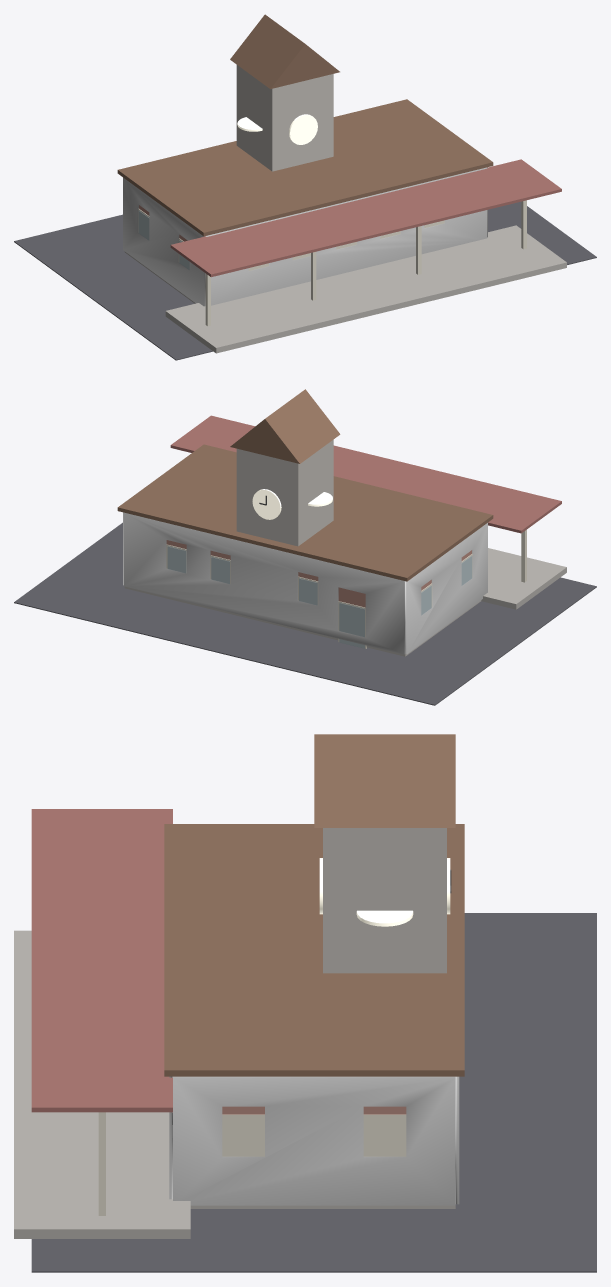
The model's file is railway_station.glb.
3 renders of one model, top to bottom at view 1: azimuth 30°, elevation 25°; view 2: azimuth 150°, elevation 25°; view 3: azimuth 270°, elevation 25°, orthographic. The views are drawn at different scales.
Parts seen in each view (by area): view 1: roof_main, platform, canopy_roof, plaza, back_wall, tower, left_wall, tower_roof, clock_s; view 2: plaza, roof_main, front_wall, canopy_roof, tower, left_wall, tower_roof, platform, frame (×4), glass (×4), body, foundation (+1 smaller); view 3: plaza, roof_main, canopy_roof, right_wall, platform, tower, tower_roof, frame (×2), foundation, canopy_post_r, clock_e, body.
Part boxes in pixels (<box>): roof_main: <box>117,99,493,236</box>; platform: <box>165,225,566,353</box>; canopy_roof: <box>170,159,561,277</box>; plaza: <box>14,201,596,360</box>; back_wall: <box>206,167,487,305</box>; tower: <box>236,65,333,171</box>; left_wall: <box>123,177,205,306</box>; tower_roof: <box>230,14,339,88</box>; clock_s: <box>289,114,317,144</box>; plaza: <box>14,522,596,705</box>; roof_main: <box>117,444,493,581</box>; front_wall: <box>123,512,405,654</box>; canopy_roof: <box>170,415,561,533</box>; tower: <box>236,440,333,546</box>; left_wall: <box>405,523,487,654</box>; tower_roof: <box>230,389,340,463</box>; platform: <box>481,548,566,609</box>; frame (×4): <box>166,544,366,648</box>; glass (×4): <box>167,546,364,648</box>; body: <box>166,540,471,607</box>; foundation: <box>124,586,481,656</box>; plaza: <box>31,913,596,1272</box>; roof_main: <box>164,824,464,1076</box>; canopy_roof: <box>31,809,172,1112</box>; right_wall: <box>173,1076,455,1205</box>; platform: <box>14,930,190,1238</box>; tower: <box>323,828,446,973</box>; tower_roof: <box>314,734,455,827</box>; frame (×2): <box>222,1114,406,1156</box>; foundation: <box>190,1205,455,1208</box>; canopy_post_r: <box>98,1112,105,1215</box>; clock_e: <box>356,910,413,926</box>; body: <box>222,1106,406,1114</box>.
Size of the model in its own units: 24 by 11.35 by 16.5.
